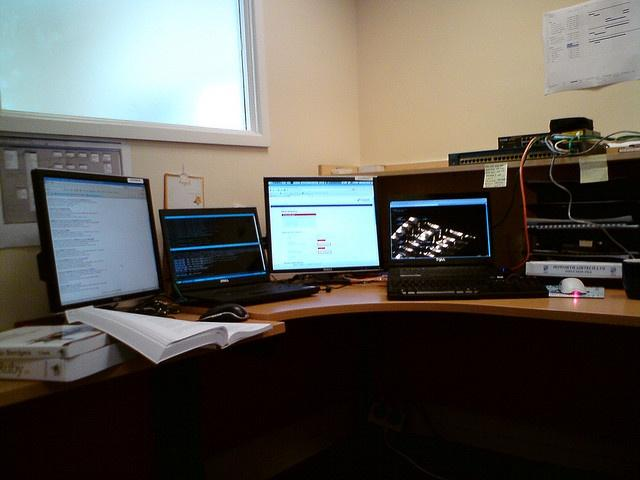AIO PC-Monitor-TV: (28, 167, 166, 315), (259, 174, 385, 284)
